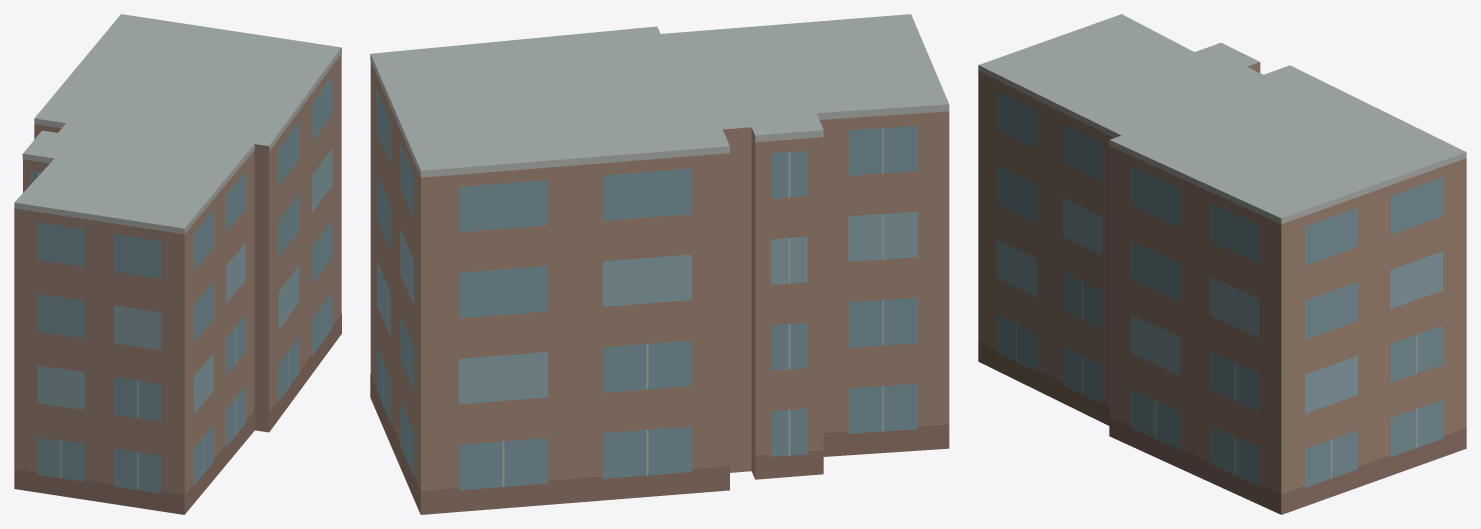
The model's file is survey-upis-32747686.glb.
The picture shows the model from 3 angles, left to right: view 1: azimuth 30°, elevation 25°; view 2: azimuth 150°, elevation 25°; view 3: azimuth 270°, elevation 25°; orthographic projection. The views are drawn at different scales.
Parts seen in each view (by area): view 1: survey-upis-32747686.tmp; view 2: survey-upis-32747686.tmp; view 3: survey-upis-32747686.tmp.
Boxes of the visible parts, x1=… form: survey-upis-32747686.tmp: x1=14, y1=14, x2=341, y2=514; survey-upis-32747686.tmp: x1=370, y1=14, x2=949, y2=514; survey-upis-32747686.tmp: x1=978, y1=14, x2=1466, y2=514.
Bounding box in the file's own units: 18.05 × 12.2 × 18.22.
